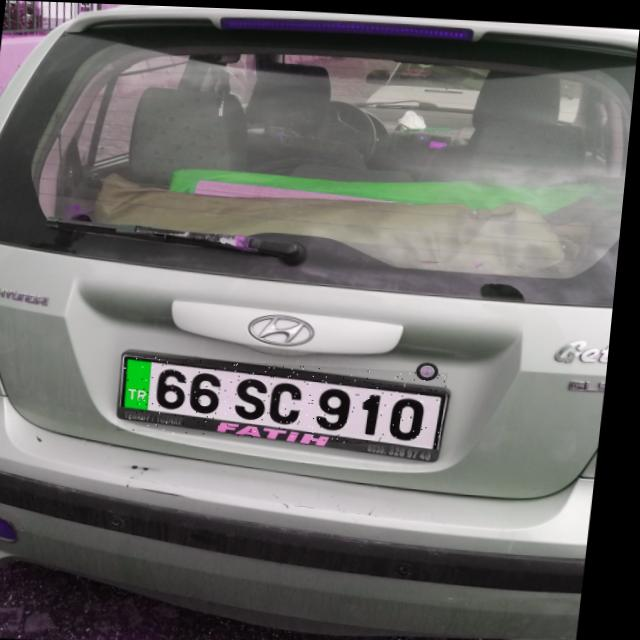license_plate: (124, 354, 455, 444)
